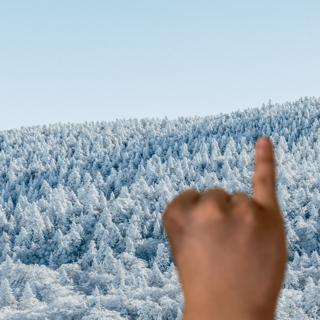FINE: (158, 132, 296, 320)
